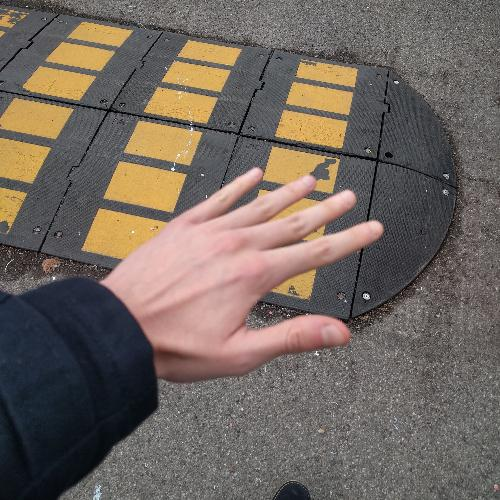paper: (100, 159, 390, 388)
